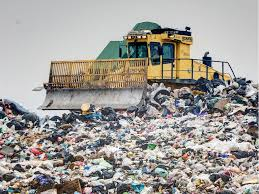garbage: (1, 115, 258, 194), (158, 93, 257, 194)
